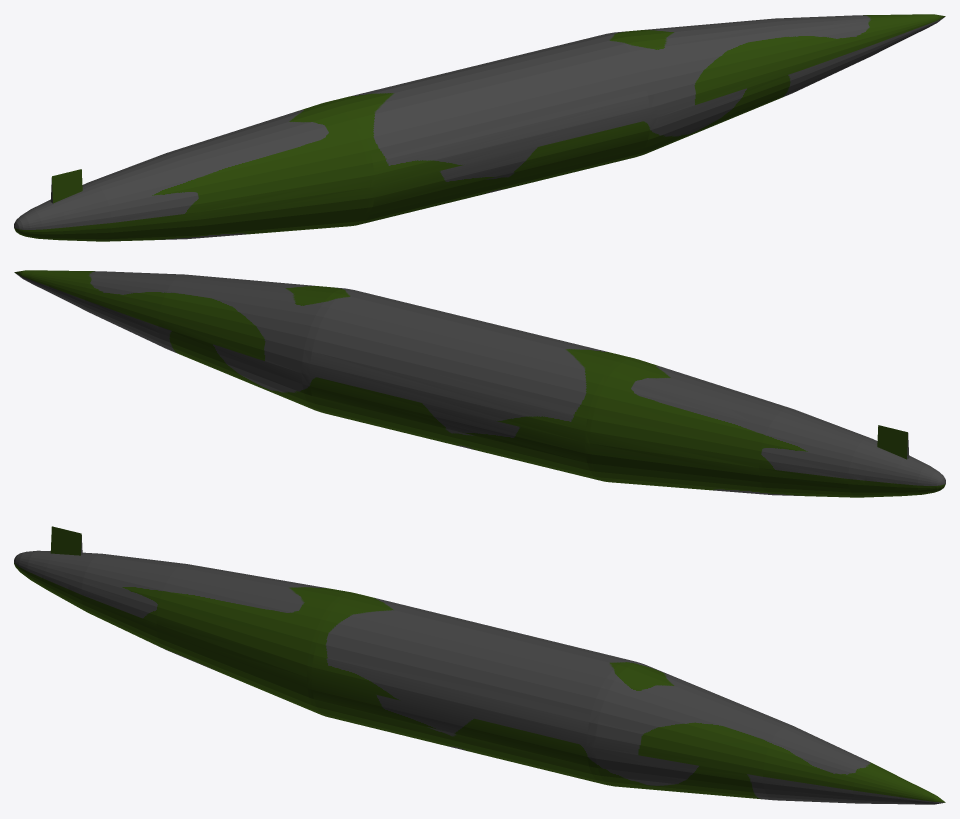
3 renders of one model, top to bottom at view 1: azimuth 30°, elevation 25°; view 2: azimuth 150°, elevation 25°; view 3: azimuth 330°, elevation 25°, orthographic.
Visible parts, largest first — view 1: Cylinder.041; view 2: Cylinder.041; view 3: Cylinder.041.
Part boxes in pixels (x1,y1,x2,y2): Cylinder.041: (14,14,945,241); Cylinder.041: (14,270,945,497); Cylinder.041: (14,526,945,804).
Size of the model in its own units: 6.55 by 0.7794 by 0.777.
1 material, 1 textured.
